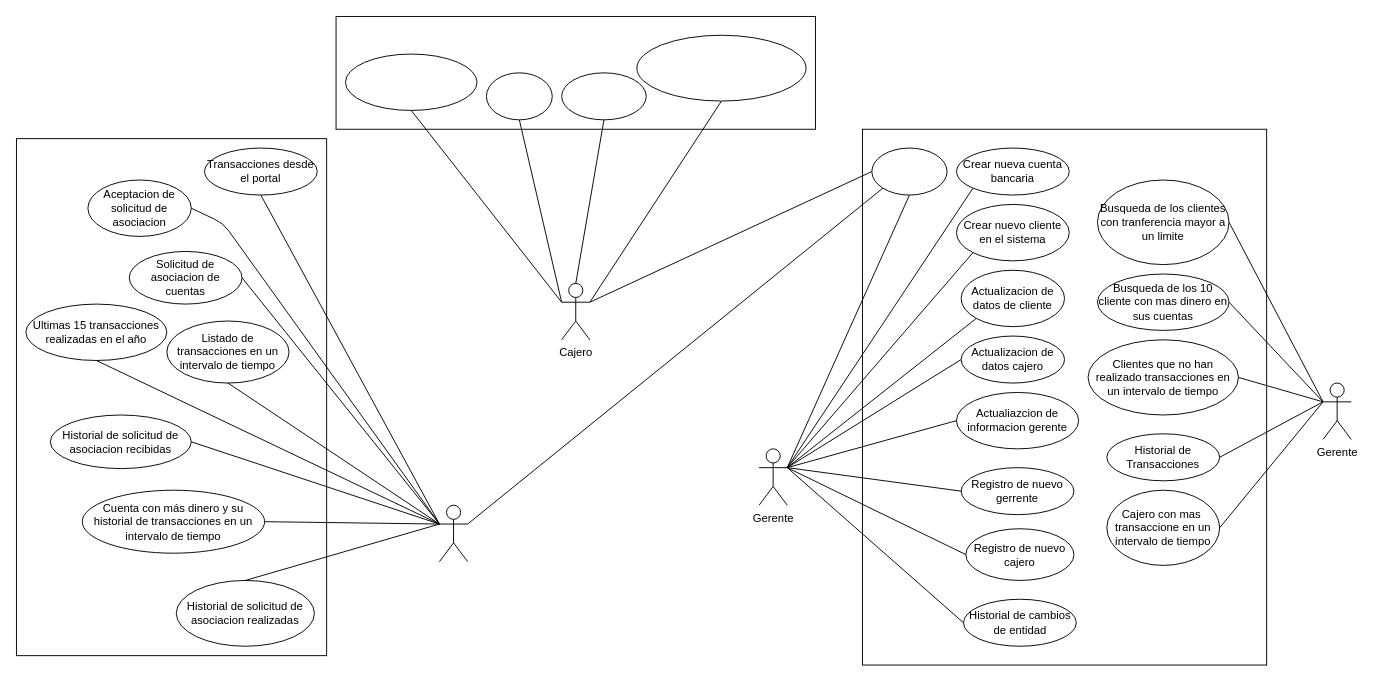
Some shapes in this 1373 by 682 pixel diagram are drawn without their labels. The centre of each missing label's shape, as x and y in pixels:
Cliente: pixel 453 533
Ingreso al sistema: pixel 909 171
Listado de depositos y retiros durante su turno: pixel 411 81
Listado de transaqcciones realizadas en un intervalo de tiempo: pixel 721 67
Retiro Bancario: pixel 519 96
Transaccion bancaria: pixel 603 96
